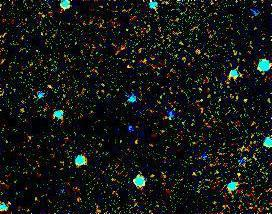star: (223, 159, 253, 189)
